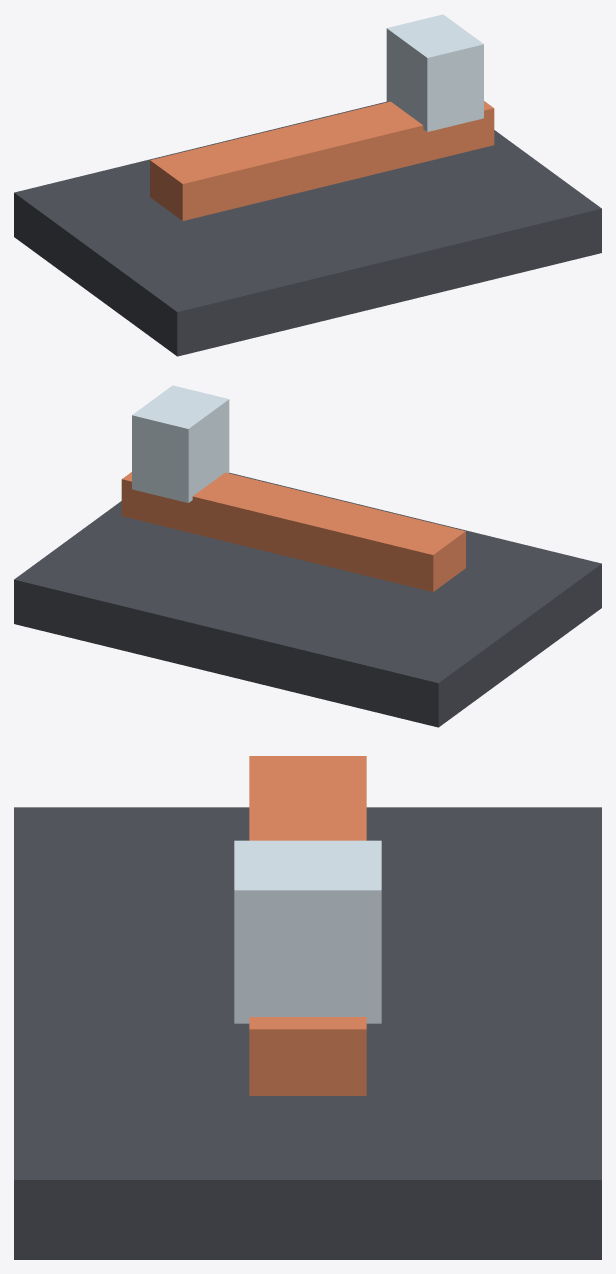
The model's file is sample-mechanism.glb.
3 renders of one model, top to bottom at view 1: azimuth 30°, elevation 25°; view 2: azimuth 150°, elevation 25°; view 3: azimuth 270°, elevation 25°, orthographic. The views are drawn at different scales.
Parts seen in each view (by area): view 1: Base_Plate, Swing_Arm, Slide_Jaw; view 2: Base_Plate, Swing_Arm, Slide_Jaw; view 3: Base_Plate, Slide_Jaw, Swing_Arm.
Boxes of the visible parts, <box> form: Base_Plate: <box>14,101,601,356</box>; Swing_Arm: <box>150,101,494,220</box>; Slide_Jaw: <box>386,14,483,131</box>; Base_Plate: <box>14,472,601,727</box>; Swing_Arm: <box>121,472,465,591</box>; Slide_Jaw: <box>132,385,229,502</box>; Base_Plate: <box>14,807,601,1259</box>; Slide_Jaw: <box>234,840,381,1023</box>; Swing_Arm: <box>249,756,366,1095</box>.
Size of the model in its own units: 3 by 1.2 by 2.
